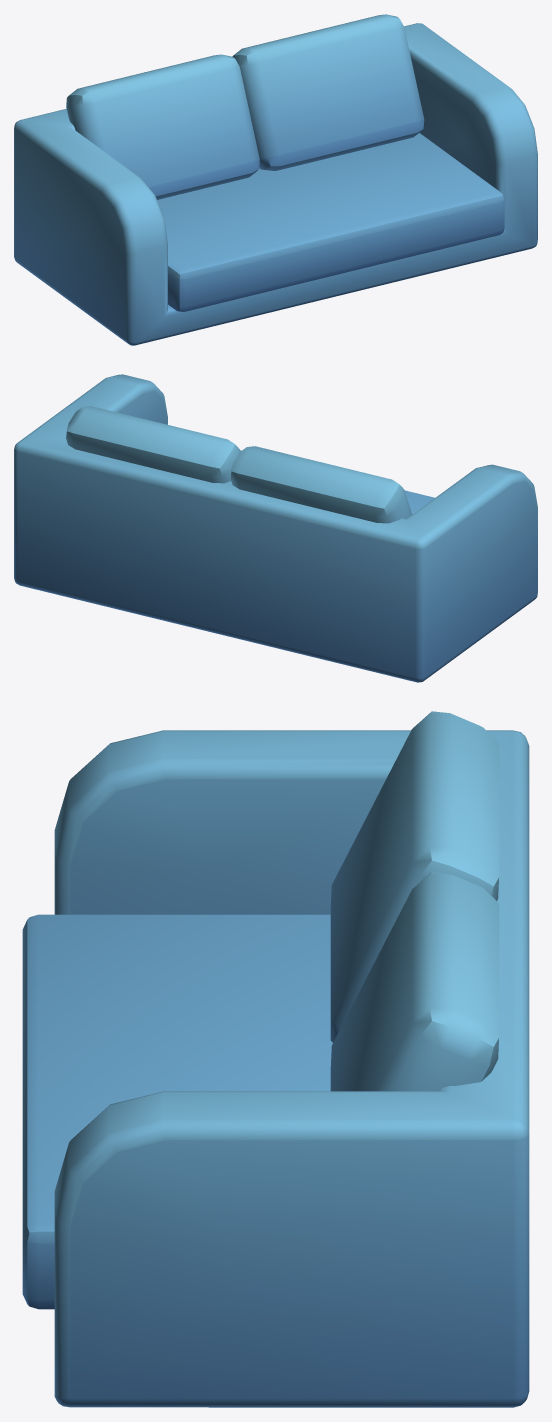
Rendered from kk_couch.glb.
The picture shows the model from 3 angles, top to bottom: view 1: azimuth 30°, elevation 25°; view 2: azimuth 150°, elevation 25°; view 3: azimuth 270°, elevation 25°; orthographic projection. The views are drawn at different scales.
Visible parts, largest first — view 1: couch; view 2: couch; view 3: couch.
Part boxes in pixels (x1,y1,x2,y2): couch: (14,14,537,345); couch: (14,374,537,682); couch: (22,711,529,1407).
Size of the model in its own units: 2.08 by 0.85 by 1.11.
Materials: 1 (1 with a texture image).
